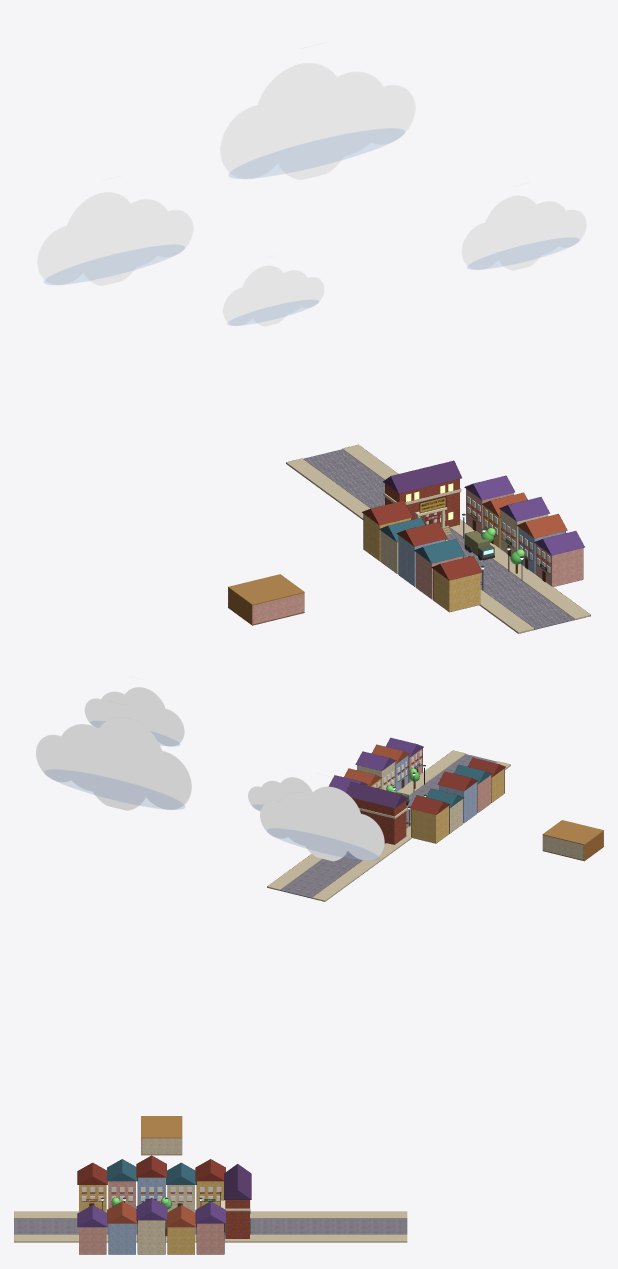
The picture shows the model from 3 angles, top to bottom: view 1: azimuth 30°, elevation 25°; view 2: azimuth 150°, elevation 25°; view 3: azimuth 270°, elevation 25°; orthographic projection. The views are drawn at different scales.
Parts seen in each view (by area): view 1: cloud1, cloud0, cloud3, road, cloud2, walk1, walk-1, bld-1_0, inst_body, inst_roof, bld1_0, lab_ceiling (+2 smaller); view 2: cloud1, cloud0, cloud3, road, walk1, inst_body, walk-1, bld-1_4, cloud2, inst_roof, lab_ceiling, wall_back (+15 smaller); view 3: road, walk1, walk-1, bld1_2, lab_ceiling, inst_body, bld1_4, bld1_1, inst_roof, bld1_0, bld1_3, wall_right (+15 smaller).
Boxes of the visible parts, x1=… form: cloud1: x1=220, y1=63, x2=414, y2=179; cloud0: x1=37, y1=192, x2=193, y2=285; cloud3: x1=462, y1=195, x2=586, y2=270; road: x1=303, y1=449, x2=574, y2=629; cloud2: x1=223, y1=265, x2=324, y2=326; walk1: x1=342, y1=444, x2=590, y2=619; walk-1: x1=286, y1=458, x2=534, y2=633; bld-1_0: x1=433, y1=569, x2=480, y2=612; inst_body: x1=385, y1=479, x2=459, y2=527; inst_roof: x1=383, y1=460, x2=461, y2=493; bld1_0: x1=535, y1=544, x2=583, y2=586; lab_ceiling: x1=228, y1=574, x2=304, y2=605; cloud1: x1=36, y1=717, x2=191, y2=810; cloud0: x1=260, y1=786, x2=384, y2=861; cloud3: x1=84, y1=687, x2=184, y2=746; road: x1=280, y1=754, x2=496, y2=898; walk1: x1=267, y1=750, x2=465, y2=890; inst_body: x1=352, y1=798, x2=406, y2=844; walk-1: x1=312, y1=761, x2=510, y2=901; bld-1_4: x1=411, y1=806, x2=449, y2=843; cloud2: x1=248, y1=777, x2=312, y2=810; inst_roof: x1=346, y1=782, x2=407, y2=808; lab_ceiling: x1=542, y1=820, x2=603, y2=845; wall_back: x1=542, y1=835, x2=584, y2=859; road: x1=14, y1=1218, x2=407, y2=1234; walk1: x1=14, y1=1234, x2=407, y2=1242; walk-1: x1=14, y1=1211, x2=407, y2=1218; bld1_2: x1=137, y1=1220, x2=165, y2=1254; lab_ceiling: x1=141, y1=1116, x2=182, y2=1138; inst_body: x1=225, y1=1200, x2=250, y2=1238; bld1_4: x1=196, y1=1223, x2=224, y2=1254; bld1_1: x1=108, y1=1223, x2=135, y2=1254; inst_roof: x1=224, y1=1164, x2=251, y2=1199; bld1_0: x1=79, y1=1227, x2=106, y2=1254; bld1_3: x1=167, y1=1227, x2=194, y2=1254; wall_right: x1=141, y1=1138, x2=182, y2=1154.
Size of what is drawn, in the model's own units: 101 by 56.72 by 120.
Materials: 253 (88 with a texture image).
